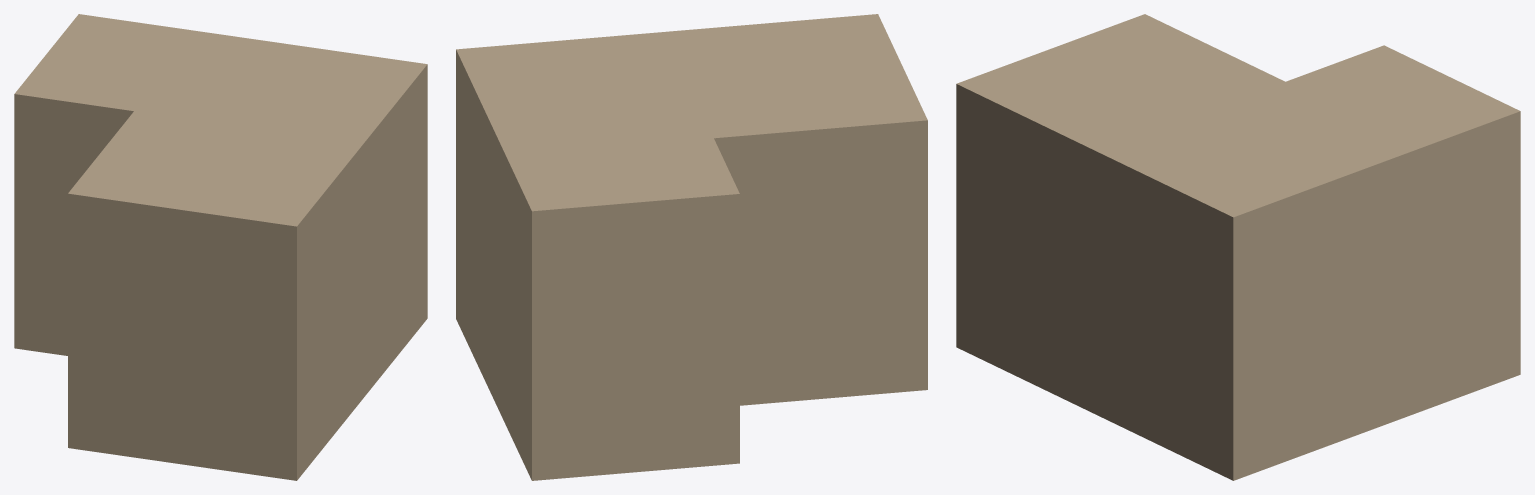
File: bld_106338932.dae
3 renders of one model, left to right at view 1: azimuth 30°, elevation 25°; view 2: azimuth 150°, elevation 25°; view 3: azimuth 270°, elevation 25°, orthographic. The views are drawn at different scales.
Visible parts, largest first — view 1: bld_106338932; view 2: bld_106338932; view 3: bld_106338932.
Boxes of the visible parts, x1,y1,x2,y2 form: bld_106338932: (14,14,427,480); bld_106338932: (456,14,927,480); bld_106338932: (956,14,1520,480).
Bounding box in the file's own units: 13.24 × 15.53 × 8.
